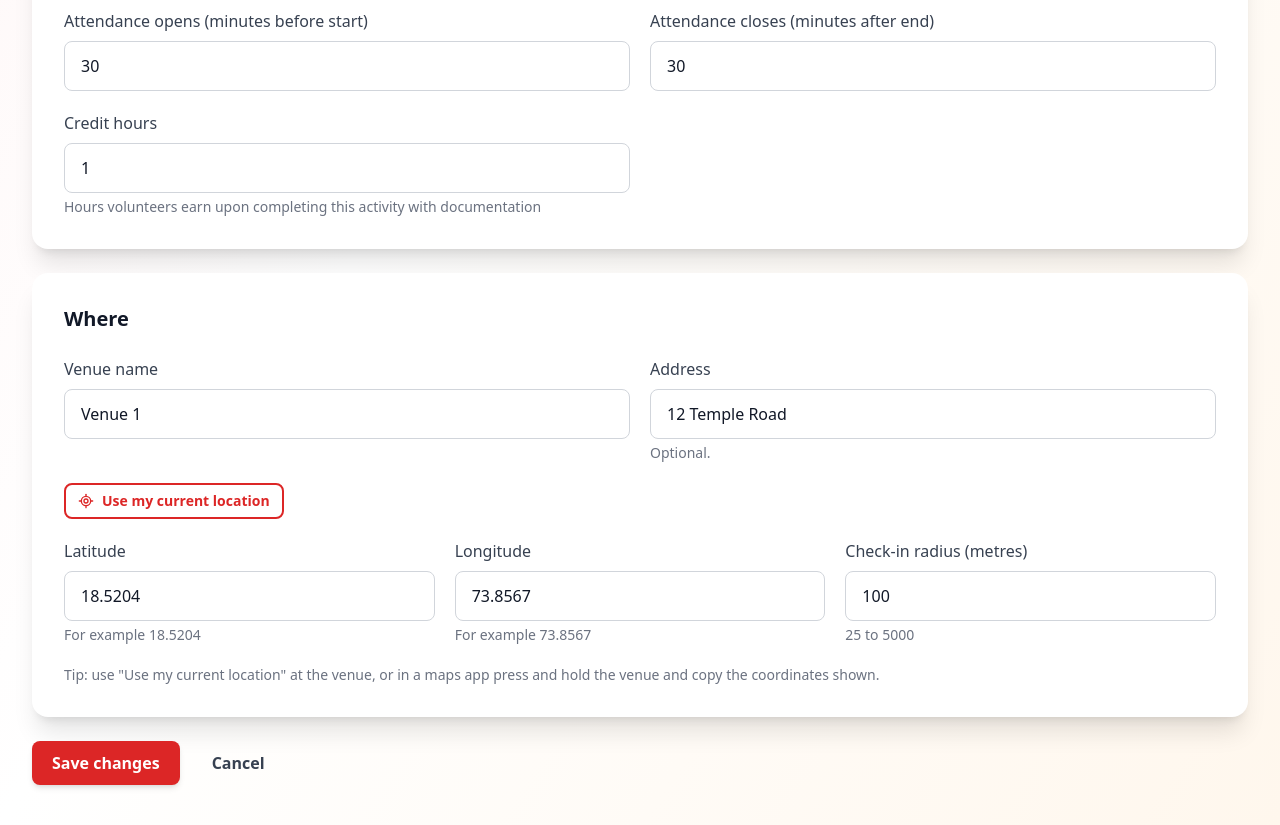
it: locked location in the activity form › shows the server refusal if the location gets locked while editing
This screenshot has width=1280, height=825.
(page scrolled)
Replace the text in the number field labelled "Check-in radius (metres)" with "300" at (1031, 596), box [845,571,1216,621]
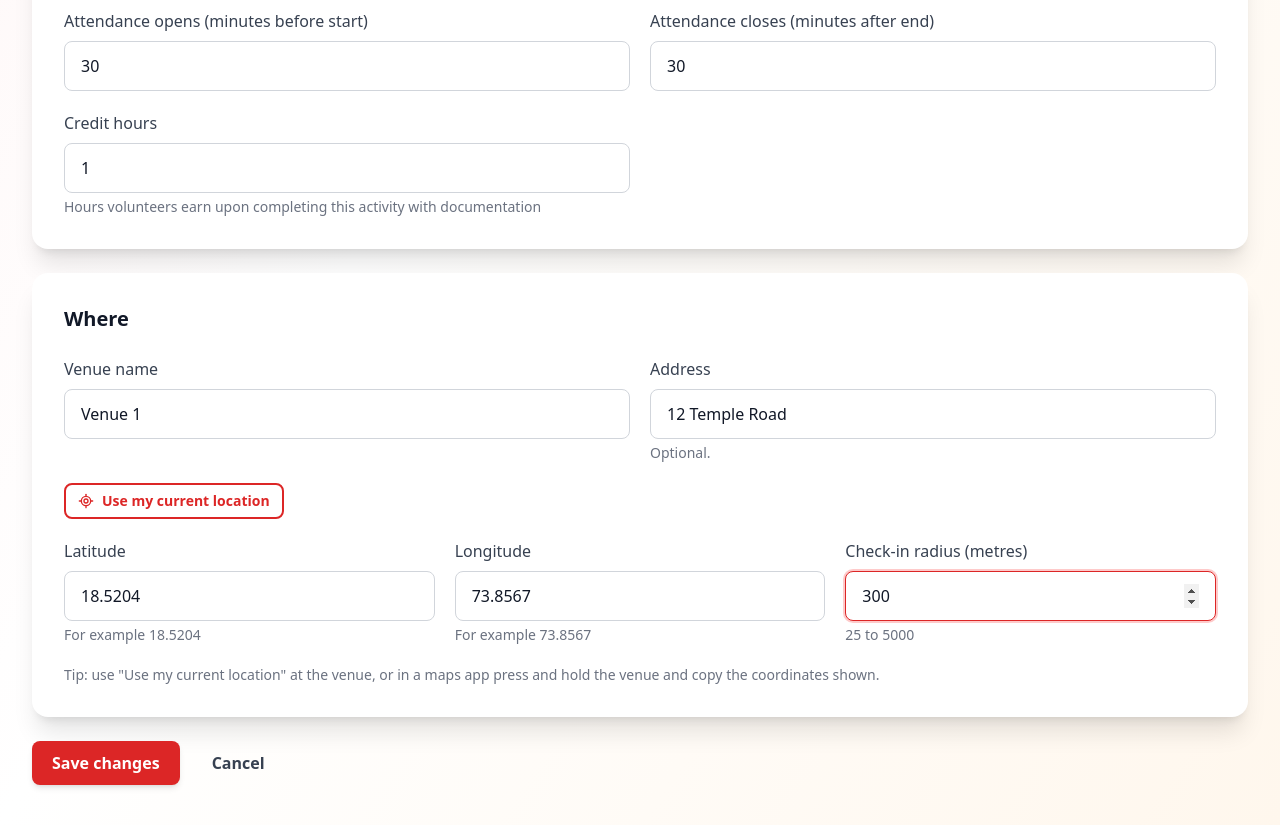
Click the button "Save changes" at (106, 763), box [32,741,180,785]
(page scrolled)
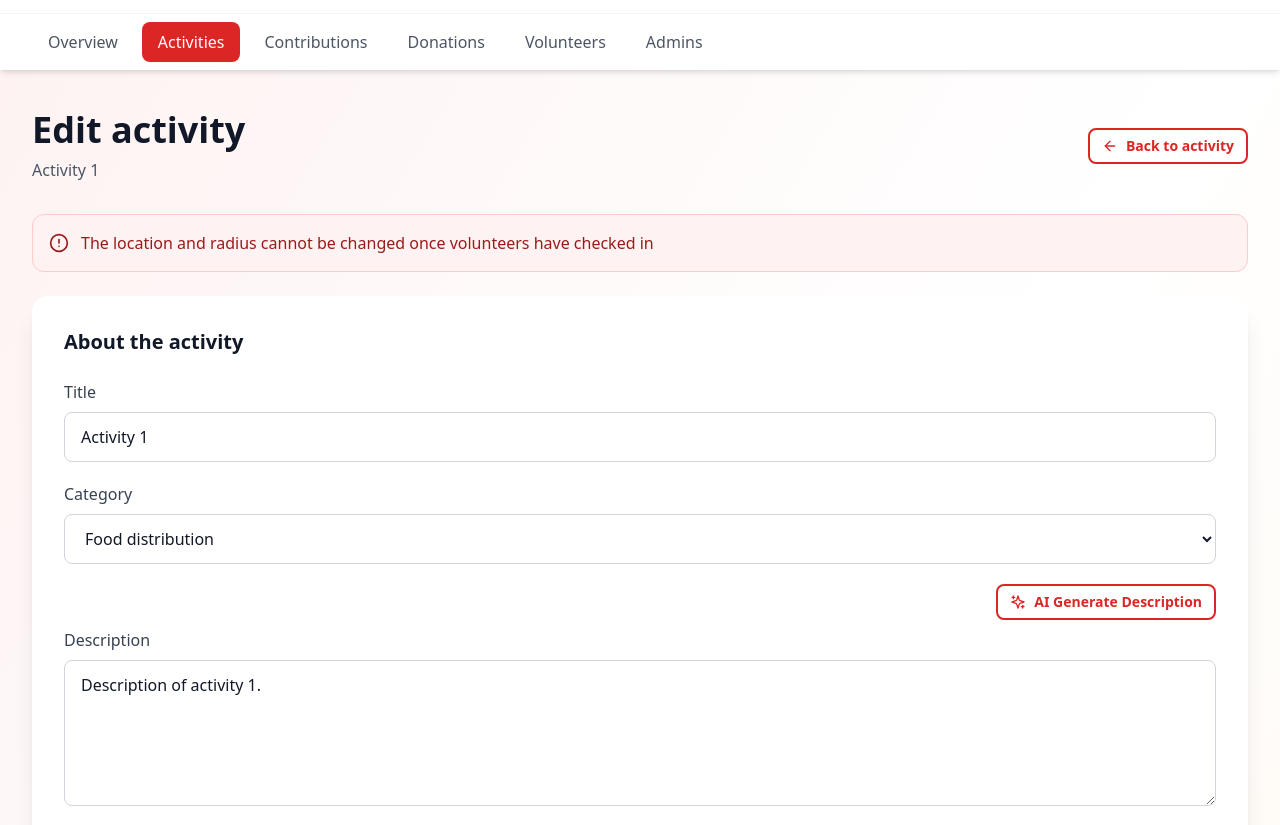
Expected: the message shows "cannot be changed once volunteers have checked in", [81,232,654,254]
